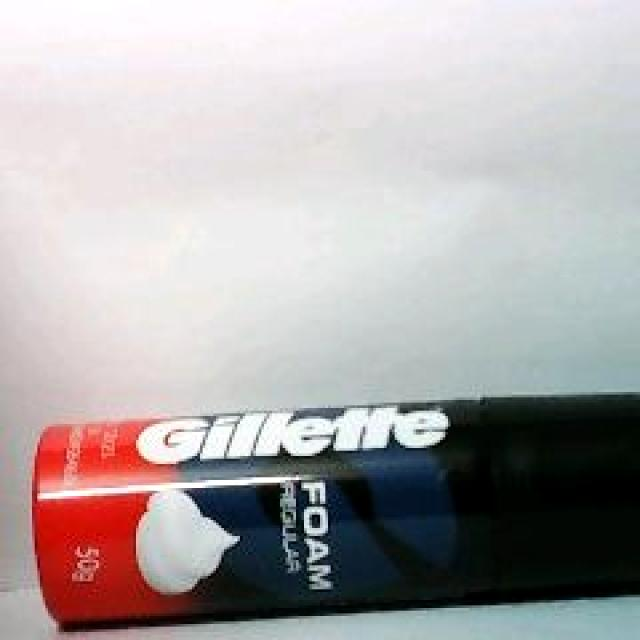gillette-foam: (29, 395, 637, 635)
